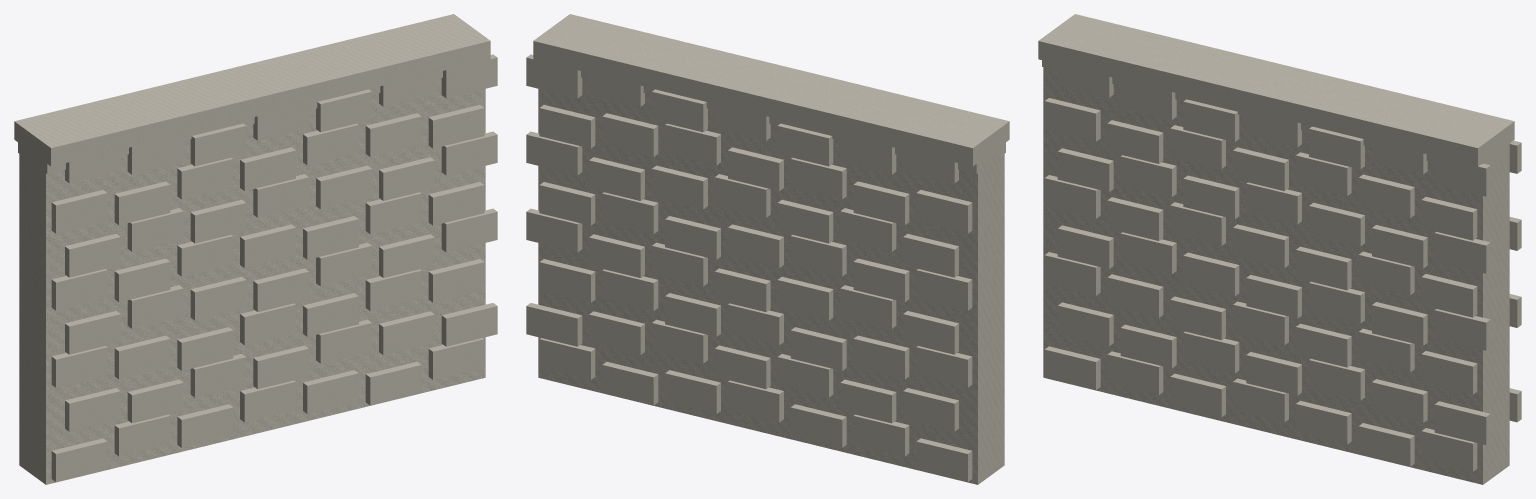
The model's file is stone-wall-section.glb.
3 renders of one model, left to right at view 1: azimuth 30°, elevation 25°; view 2: azimuth 150°, elevation 25°; view 3: azimuth 330°, elevation 25°, orthographic.
Parts seen in each view (by area): view 1: stone-wall-section-stone; view 2: stone-wall-section-stone; view 3: stone-wall-section-stone.
Part boxes in pixels (left/top/right/bottom): stone-wall-section-stone: left=14, top=14, right=497, bottom=484; stone-wall-section-stone: left=526, top=14, right=1009, bottom=484; stone-wall-section-stone: left=1038, top=14, right=1521, bottom=484.
Bounding box in the file's own units: 4.07 × 2.96 × 0.5801.
Materials: 1 (1 with a texture image).
